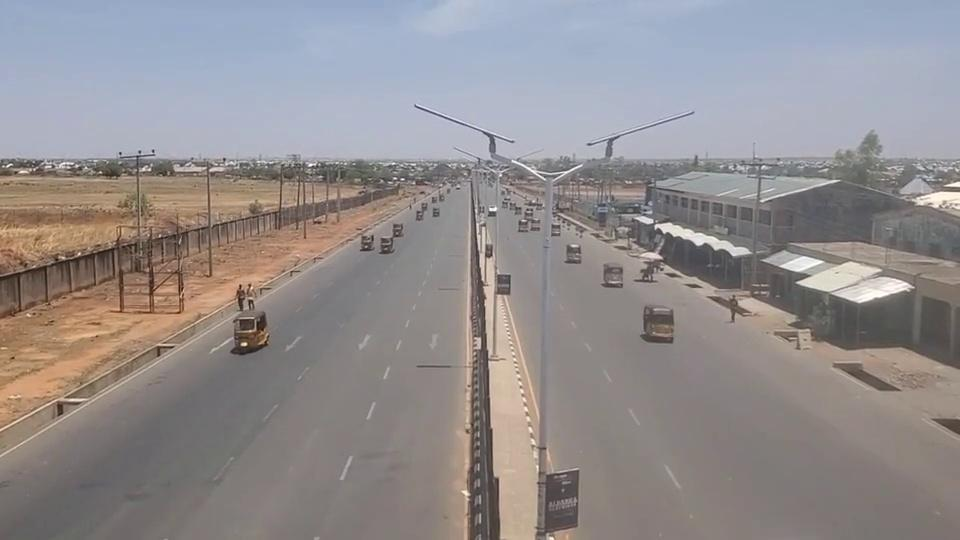keke: (232, 309, 269, 352), (642, 304, 674, 342), (603, 262, 624, 286), (566, 243, 582, 263), (360, 234, 374, 251), (380, 236, 393, 253), (392, 223, 403, 237), (416, 209, 424, 220), (433, 206, 440, 216)
